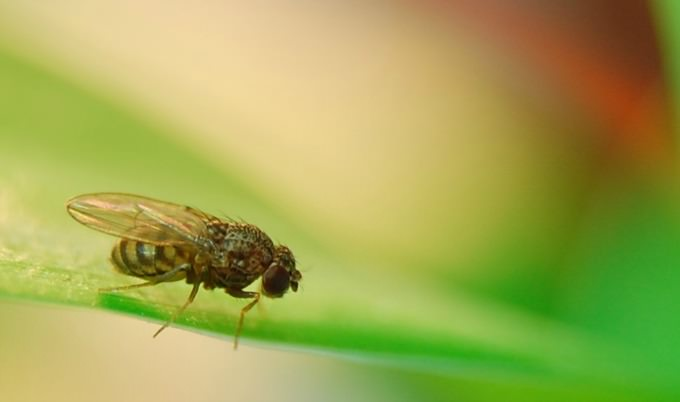green bottles fly: (60, 158, 325, 369)
